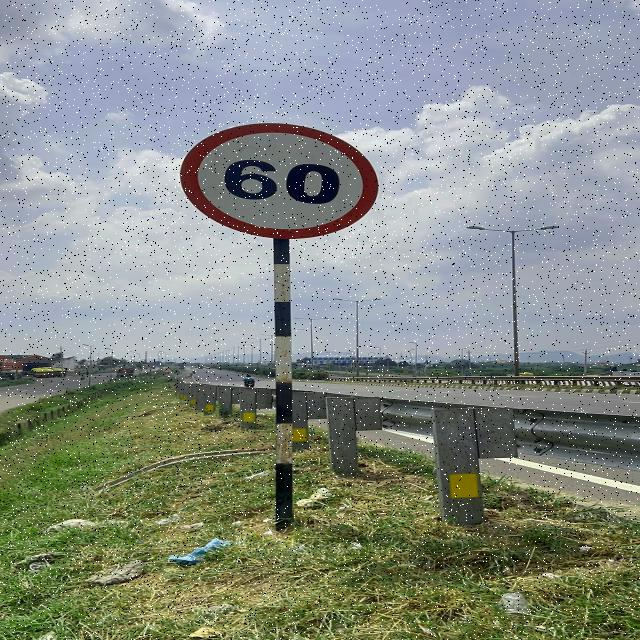speedlimit_60: (182, 125, 376, 241)
